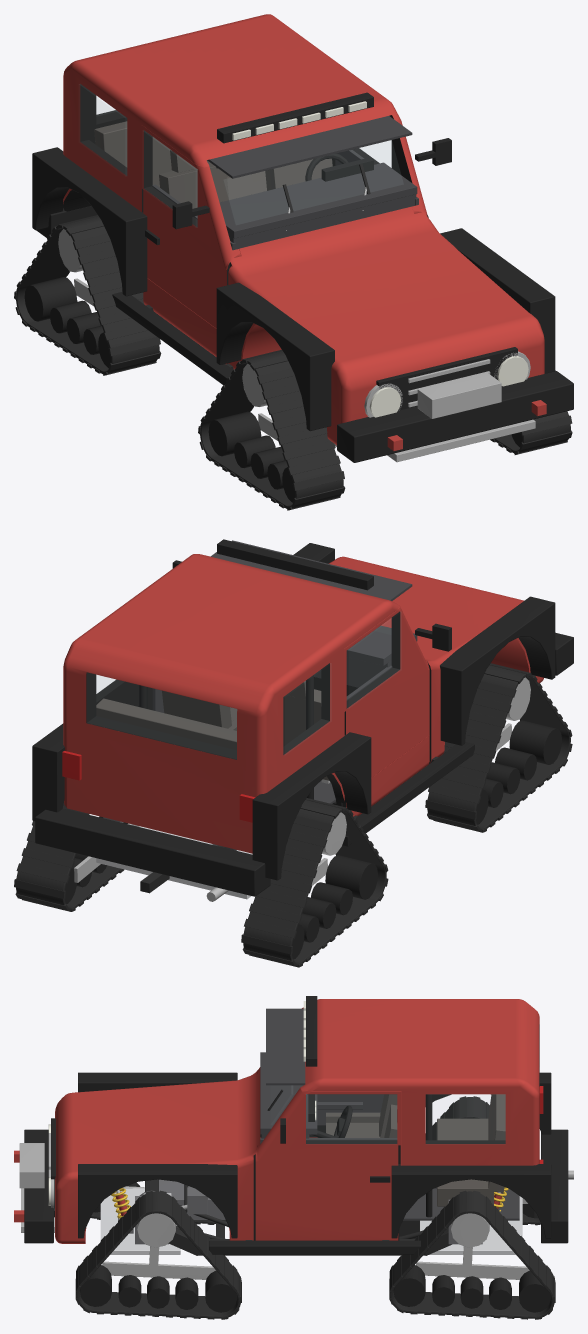
Rendered from KOTM_SnowTruck.glb.
3 renders of one model, top to bottom at view 1: azimuth 30°, elevation 25°; view 2: azimuth 150°, elevation 25°; view 3: azimuth 270°, elevation 25°, orthographic. The views are drawn at different scales.
Visible parts, largest first — view 1: BodyShell, DoorShell_R, FrontBumper, Flare.001, Flare.003, DashTop, TrackBelt_FR, TrackBelt_RR, Headliner, Flare, Winch, RockSlider.001 (+22 smaller); view 2: BodyShell, RearBumper, DoorShell_R, Flare.001, Flare.003, TrackBelt_RR, TrackBelt_FR, BenchBack, RockSlider.001, LightBar, Flare.002, TrackBelt_RL (+16 smaller); view 3: BodyShell, DoorShell_L, Flare, Flare.002, TrackBelt_FL, TrackBelt_RL, RockSlider, Headliner, RearBumper, Flare.001, FrontBumper, BenchBase (+31 smaller).
Boxes of the visible parts, bbox=[...] form: BodyShell: bbox=[63, 14, 544, 445]; DoorShell_R: bbox=[141, 125, 241, 328]; FrontBumper: bbox=[337, 371, 573, 462]; Flare.001: bbox=[216, 282, 334, 431]; Flare.003: bbox=[32, 147, 147, 296]; DashTop: bbox=[219, 162, 417, 238]; TrackBelt_FR: bbox=[200, 352, 343, 508]; TrackBelt_RR: bbox=[16, 217, 159, 373]; Headliner: bbox=[207, 116, 412, 178]; Flare: bbox=[440, 228, 555, 373]; Winch: bbox=[417, 372, 501, 418]; RockSlider.001: bbox=[112, 291, 232, 384]; BodyShell: bbox=[63, 554, 543, 853]; RearBumper: bbox=[35, 808, 270, 896]; DoorShell_R: bbox=[344, 605, 429, 797]; Flare.001: bbox=[440, 596, 555, 745]; Flare.003: bbox=[252, 732, 371, 880]; TrackBelt_RR: bbox=[243, 800, 386, 966]; TrackBelt_FR: bbox=[427, 665, 570, 831]; BenchBack: bbox=[96, 698, 236, 749]; RockSlider.001: bbox=[342, 742, 474, 846]; LightBar: bbox=[217, 539, 373, 590]; Flare.002: bbox=[32, 723, 64, 821]; TrackBelt_RL: bbox=[16, 803, 120, 910]; BodyShell: bbox=[55, 999, 539, 1243]; DoorShell_L: bbox=[256, 1088, 401, 1218]; Flare: bbox=[78, 1164, 237, 1238]; Flare.002: bbox=[391, 1164, 551, 1238]; TrackBelt_FL: bbox=[76, 1191, 240, 1318]; TrackBelt_RL: bbox=[389, 1191, 554, 1318]; RockSlider: bbox=[209, 1240, 425, 1254]; Headliner: bbox=[266, 1008, 305, 1085]; RearBumper: bbox=[541, 1129, 568, 1243]; Flare.001: bbox=[78, 1072, 237, 1092]; FrontBumper: bbox=[24, 1129, 53, 1243]; BenchBase: bbox=[437, 1118, 493, 1206].
Bounding box in the file's own units: 2.39 × 2.27 × 4.91.
